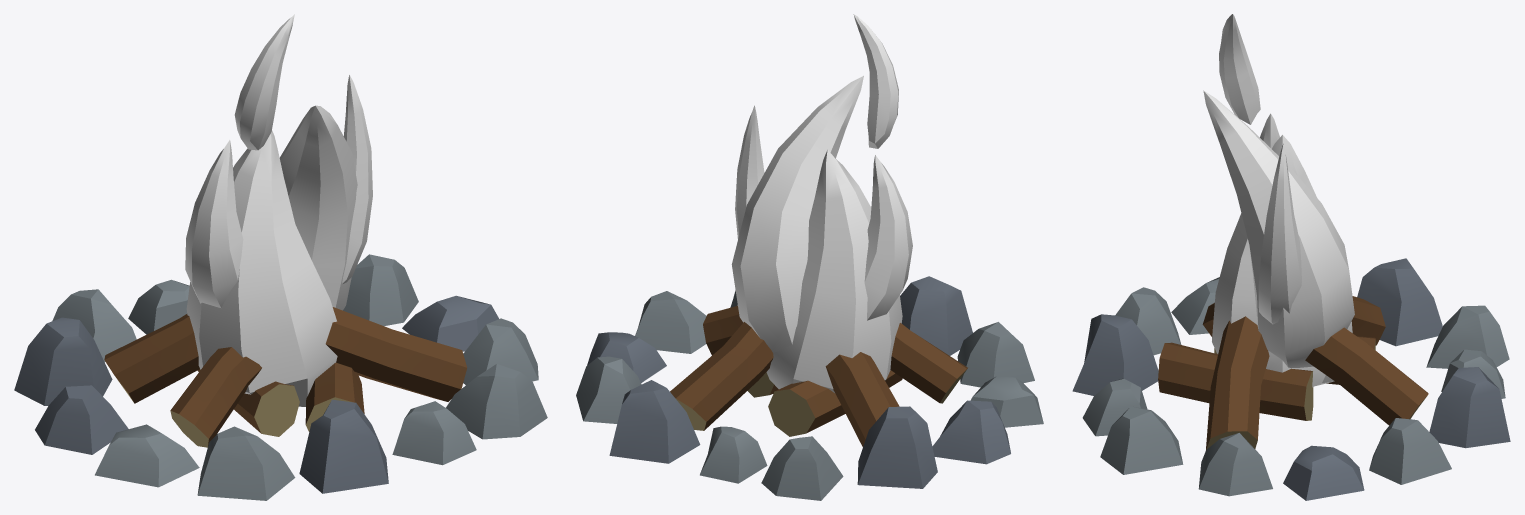
Rendered from Bonfire_Lit.glb.
The picture shows the model from 3 angles, left to right: view 1: azimuth 30°, elevation 25°; view 2: azimuth 150°, elevation 25°; view 3: azimuth 270°, elevation 25°; orthographic projection. The views are drawn at different scales.
Parts seen in each view (by area): view 1: Bonfire_Lit; view 2: Bonfire_Lit; view 3: Bonfire_Lit.
Boxes of the visible parts, x1=… form: Bonfire_Lit: x1=14, y1=14, x2=547, y2=500; Bonfire_Lit: x1=576, y1=14, x2=1043, y2=500; Bonfire_Lit: x1=1072, y1=14, x2=1510, y2=500.
Bounding box in the file's own units: 0.4066 × 0.3529 × 0.3624.
